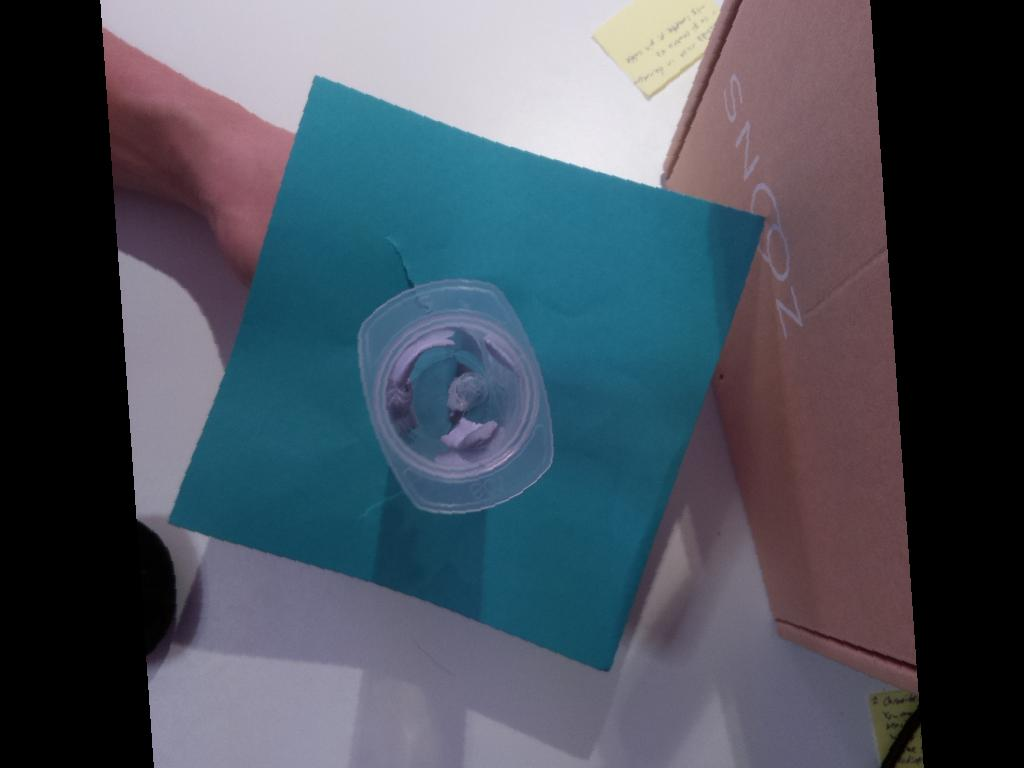dirty: (356, 280, 554, 514)
